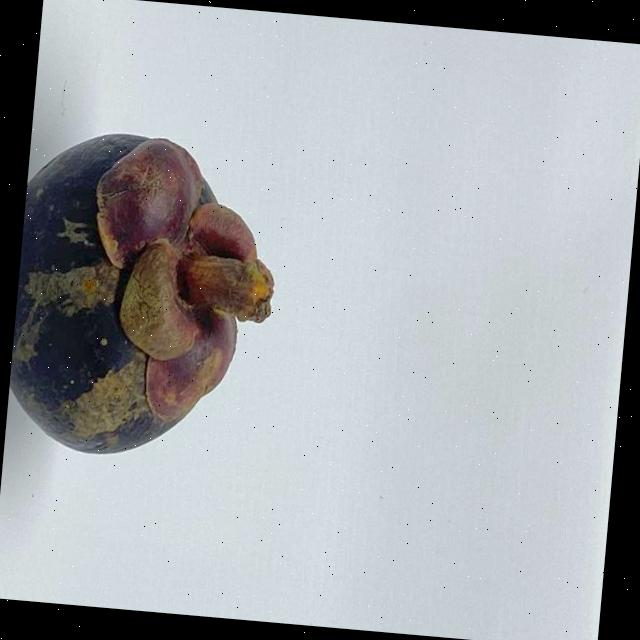mangosteen: (2, 80, 335, 493)
